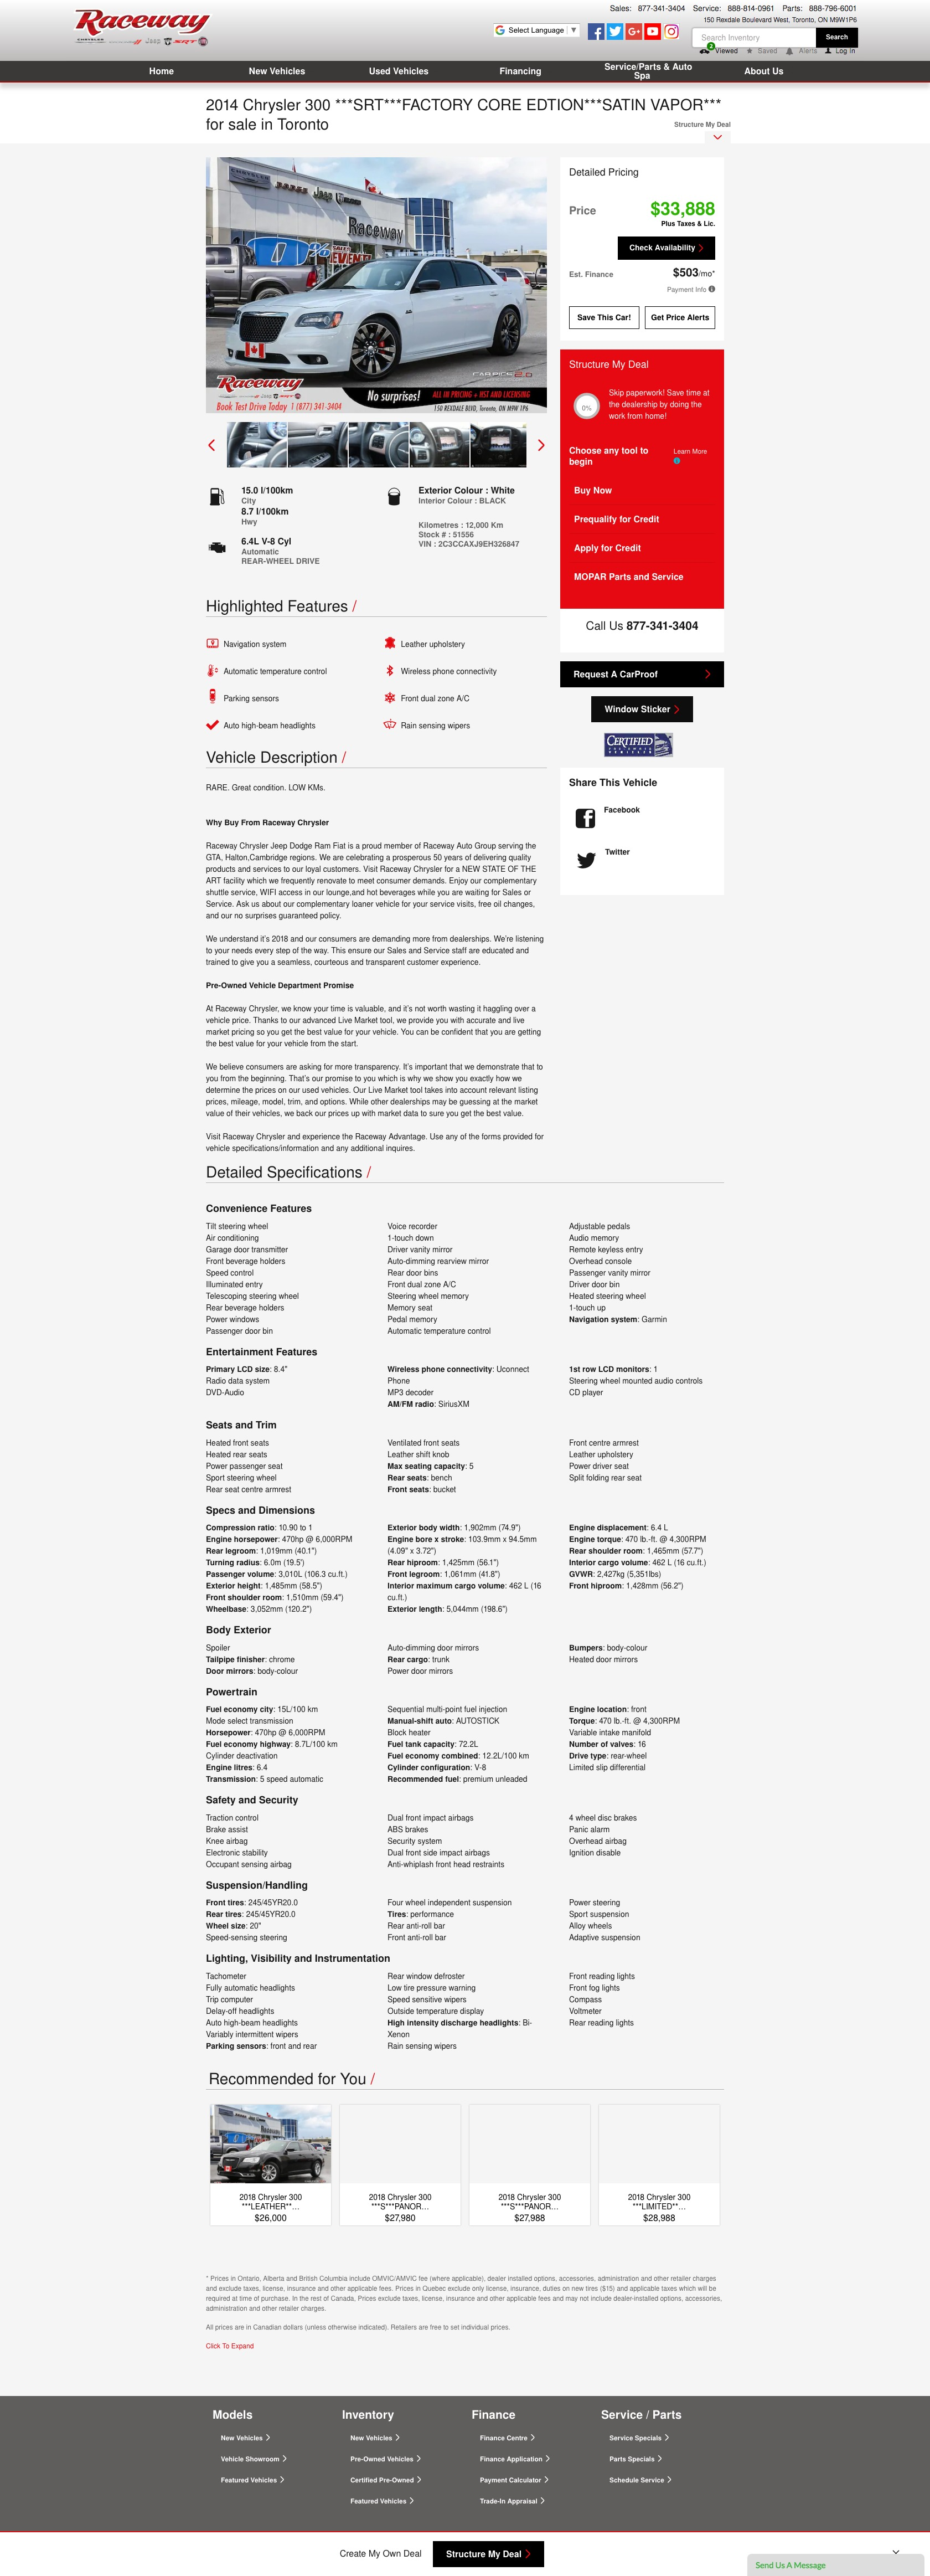car: (537, 439, 546, 452)
